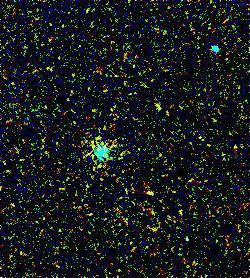star: (147, 89, 177, 119)
